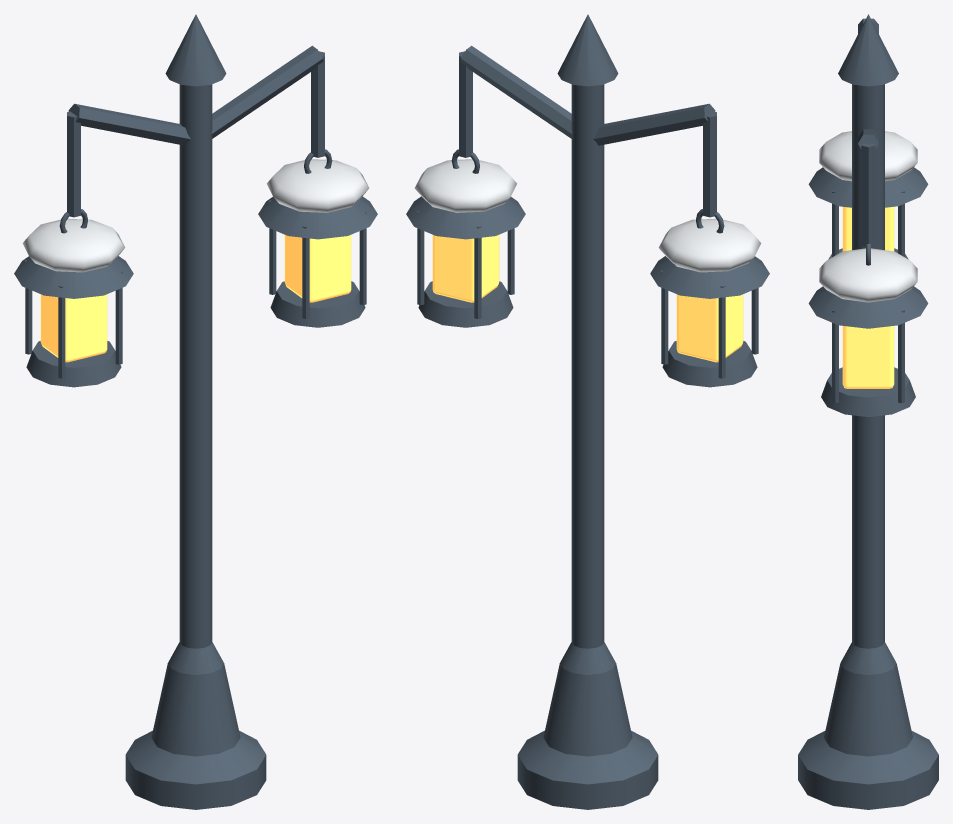
The model's file is alpine-snow-village-twin-lantern-streetlight-eb85d7c2__19804.glb.
The picture shows the model from 3 angles, left to right: view 1: azimuth 30°, elevation 25°; view 2: azimuth 150°, elevation 25°; view 3: azimuth 270°, elevation 25°; orthographic projection.
Visible parts, largest first — view 1: twin-lantern-streetlight-iron, twin-lantern-streetlight-snow, twin-lantern-streetlight-amber; view 2: twin-lantern-streetlight-iron, twin-lantern-streetlight-snow, twin-lantern-streetlight-amber; view 3: twin-lantern-streetlight-iron, twin-lantern-streetlight-snow, twin-lantern-streetlight-amber.
Boxes of the visible parts, <box> form: twin-lantern-streetlight-iron: <box>14,14,377,809</box>; twin-lantern-streetlight-snow: <box>22,159,369,272</box>; twin-lantern-streetlight-amber: <box>40,235,351,362</box>; twin-lantern-streetlight-iron: <box>406,14,769,809</box>; twin-lantern-streetlight-snow: <box>414,159,761,272</box>; twin-lantern-streetlight-amber: <box>432,235,743,362</box>; twin-lantern-streetlight-iron: <box>798,14,938,809</box>; twin-lantern-streetlight-snow: <box>819,131,917,302</box>; twin-lantern-streetlight-amber: <box>842,207,894,388</box>.
Size of the model in its own units: 1.71 by 3.6 by 0.5999.
